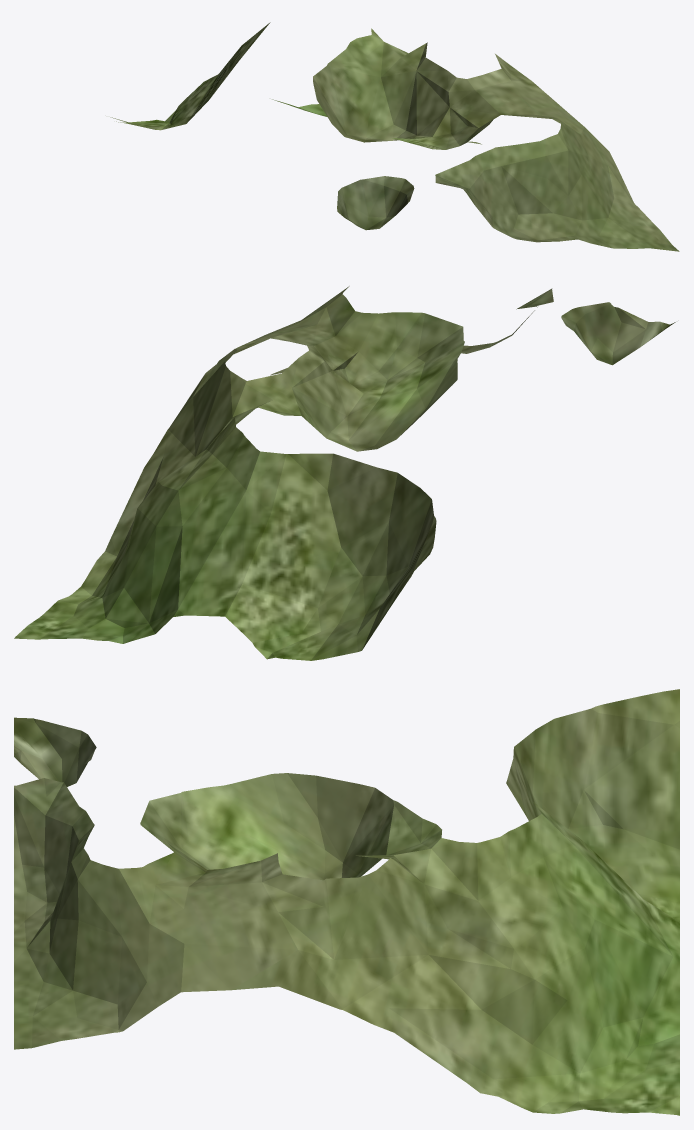
3 views of the same model, one above another, from view 1: azimuth 30°, elevation 25°; view 2: azimuth 150°, elevation 25°; view 3: azimuth 270°, elevation 25° (orthographic). The views are drawn at different scales.
Size of the model in its own units: 2.34 by 0.9962 by 2.95.
2 materials, 2 textured.
